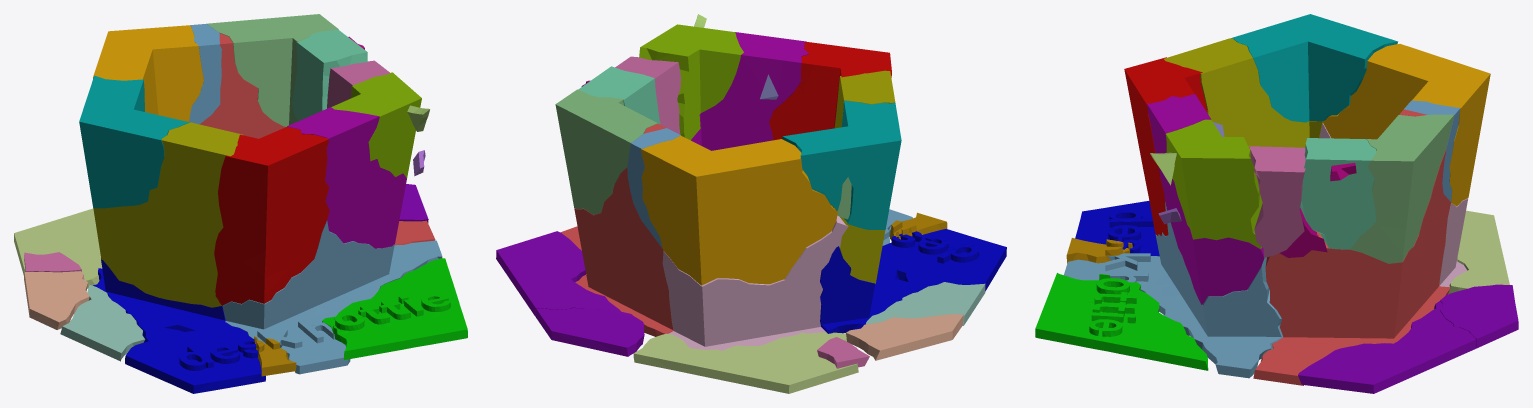
Rendered from fractured_19_29pcs.glb.
3 renders of one model, left to right at view 1: azimuth 30°, elevation 25°; view 2: azimuth 150°, elevation 25°; view 3: azimuth 270°, elevation 25°, orthographic. The views are drawn at different scales.
Parts seen in each view (by area): view 1: piece_9.obj, piece_11.obj, piece_2.obj, piece_10.obj, piece_13.obj, piece_12.obj, piece_8.obj, piece_0.obj, piece_3.obj, piece_14.obj, piece_1.obj, piece_22.obj (+9 smaller); view 2: piece_0.obj, piece_6.obj, piece_10.obj, piece_1.obj, piece_13.obj, piece_5.obj, piece_12.obj, piece_3.obj, piece_14.obj, piece_18.obj, piece_9.obj, piece_16.obj (+8 smaller); view 3: piece_1.obj, piece_2.obj, piece_0.obj, piece_13.obj, piece_8.obj, piece_3.obj, piece_14.obj, piece_11.obj, piece_18.obj, piece_12.obj, piece_22.obj, piece_20.obj (+9 smaller).
Part boxes in pixels (left/top/right/bottom): piece_9.obj: left=214, top=126, right=329, bottom=305; piece_11.obj: left=93, top=122, right=243, bottom=307; piece_2.obj: left=222, top=220, right=442, bottom=374; piece_10.obj: left=93, top=258, right=265, bottom=393; piece_13.obj: left=79, top=75, right=189, bottom=208; piece_12.obj: left=287, top=107, right=406, bottom=248; piece_8.obj: left=322, top=258, right=467, bottom=359; piece_0.obj: left=93, top=25, right=203, bottom=121; piece_3.obj: left=207, top=14, right=338, bottom=126; piece_14.obj: left=331, top=72, right=421, bottom=178; piece_1.obj: left=199, top=33, right=435, bottom=245; piece_22.obj: left=292, top=29, right=367, bottom=121; piece_0.obj: left=641, top=135, right=837, bottom=285; piece_6.obj: left=662, top=215, right=848, bottom=350; piece_10.obj: left=820, top=229, right=1006, bottom=333; piece_1.obj: left=561, top=123, right=673, bottom=336; piece_13.obj: left=782, top=100, right=901, bottom=229; piece_5.obj: left=633, top=332, right=858, bottom=393; piece_12.obj: left=691, top=32, right=808, bottom=150; piece_3.obj: left=555, top=89, right=657, bottom=214; piece_14.obj: left=639, top=24, right=743, bottom=140; piece_18.obj: left=496, top=231, right=633, bottom=316; piece_9.obj: left=769, top=42, right=891, bottom=140; piece_16.obj: left=535, top=307, right=644, bottom=356; piece_1.obj: left=1253, top=109, right=1450, bottom=385; piece_2.obj: left=1064, top=202, right=1282, bottom=378; piece_0.obj: left=1323, top=44, right=1490, bottom=206; piece_13.obj: left=1231, top=14, right=1397, bottom=122; piece_8.obj: left=1035, top=273, right=1208, bottom=370; piece_3.obj: left=1350, top=114, right=1454, bottom=263; piece_14.obj: left=1165, top=119, right=1262, bottom=249; piece_11.obj: left=1164, top=38, right=1340, bottom=203; piece_18.obj: left=1298, top=301, right=1476, bottom=393; piece_12.obj: left=1147, top=94, right=1264, bottom=304; piece_22.obj: left=1300, top=138, right=1376, bottom=249; piece_20.obj: left=1249, top=146, right=1305, bottom=257.
Bounding box in the file's own units: 1.01 × 0.4935 × 0.968.
